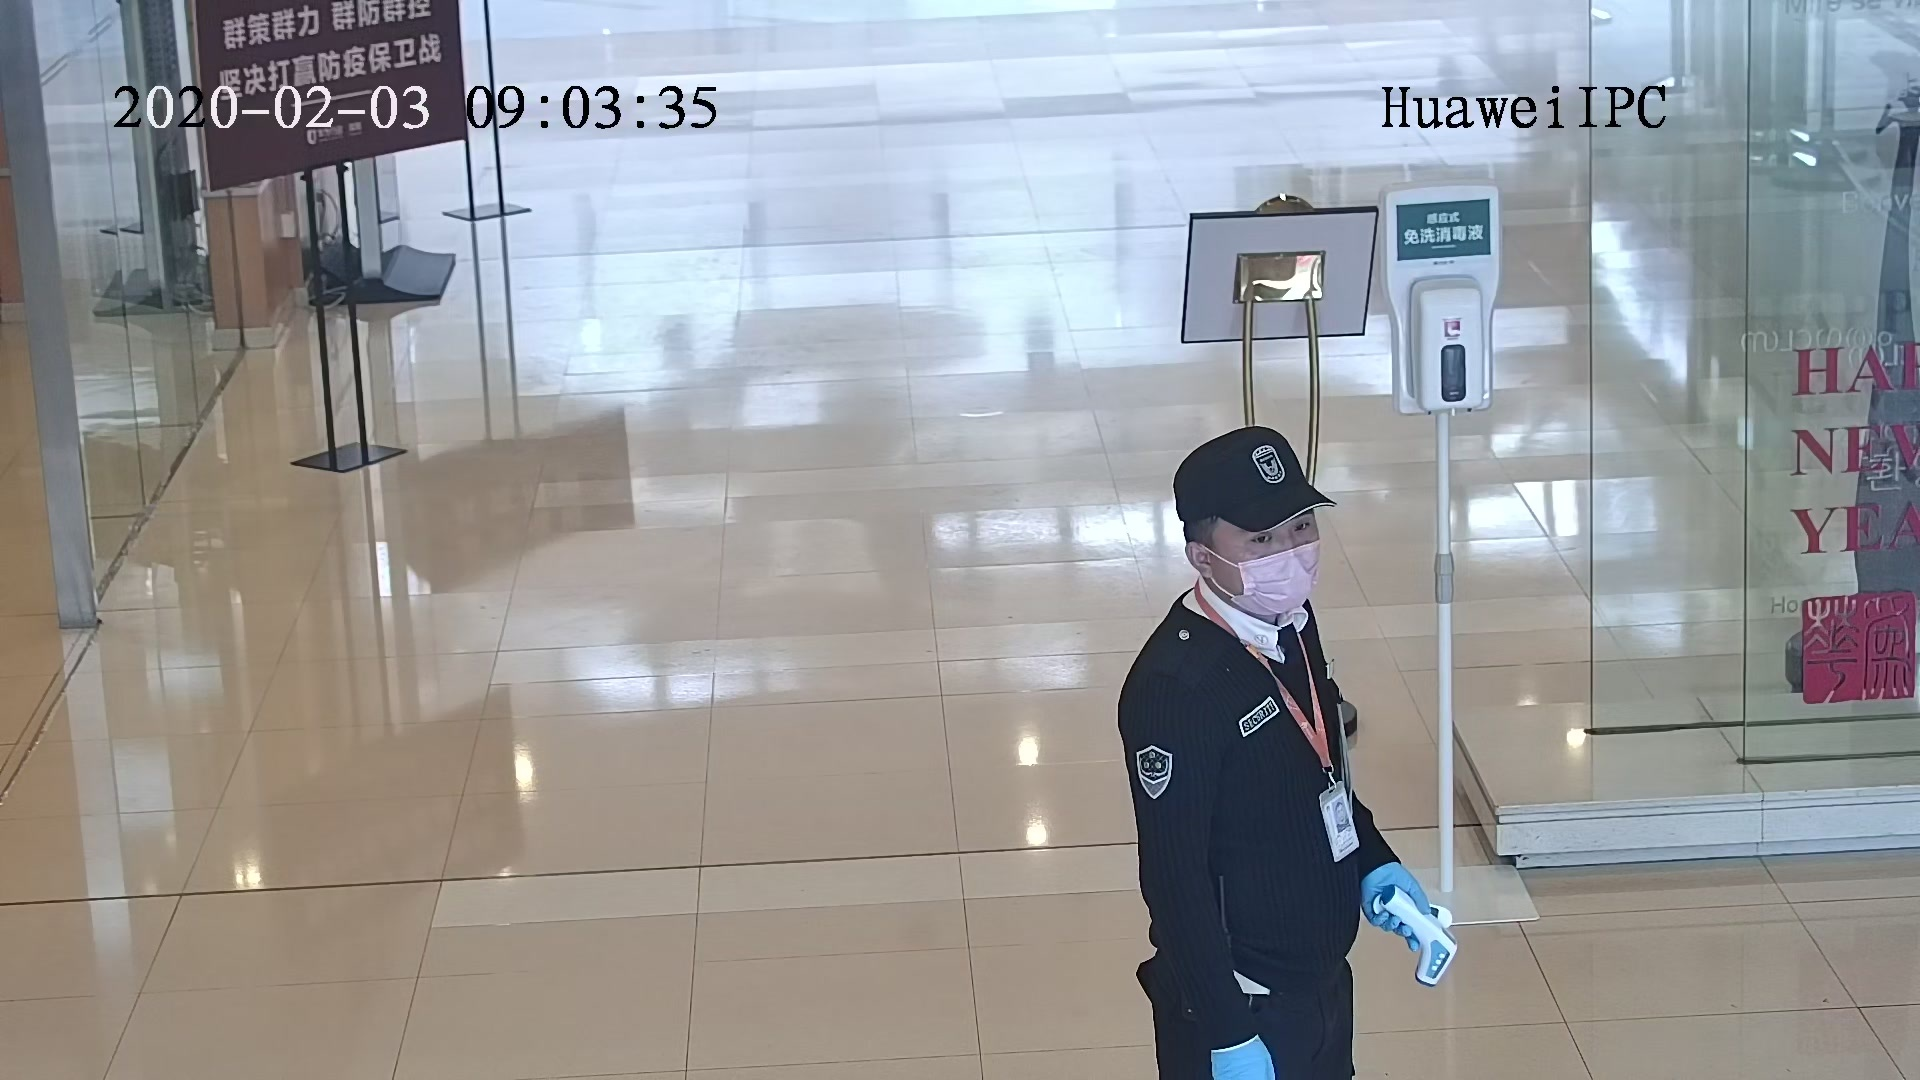face: (1205, 493, 1324, 627)
mask: (1241, 544, 1319, 617)
person: (1107, 421, 1361, 725)
